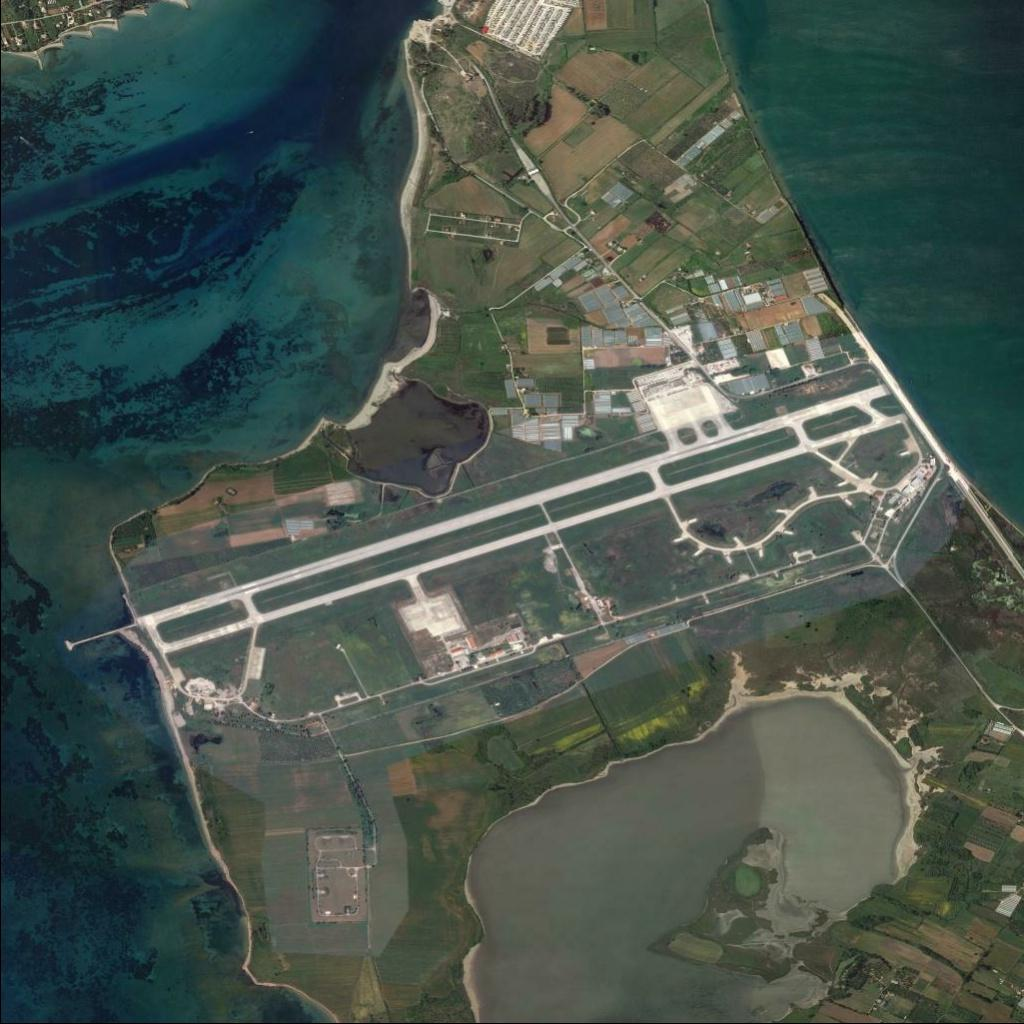harbor: (65, 618, 137, 652)
